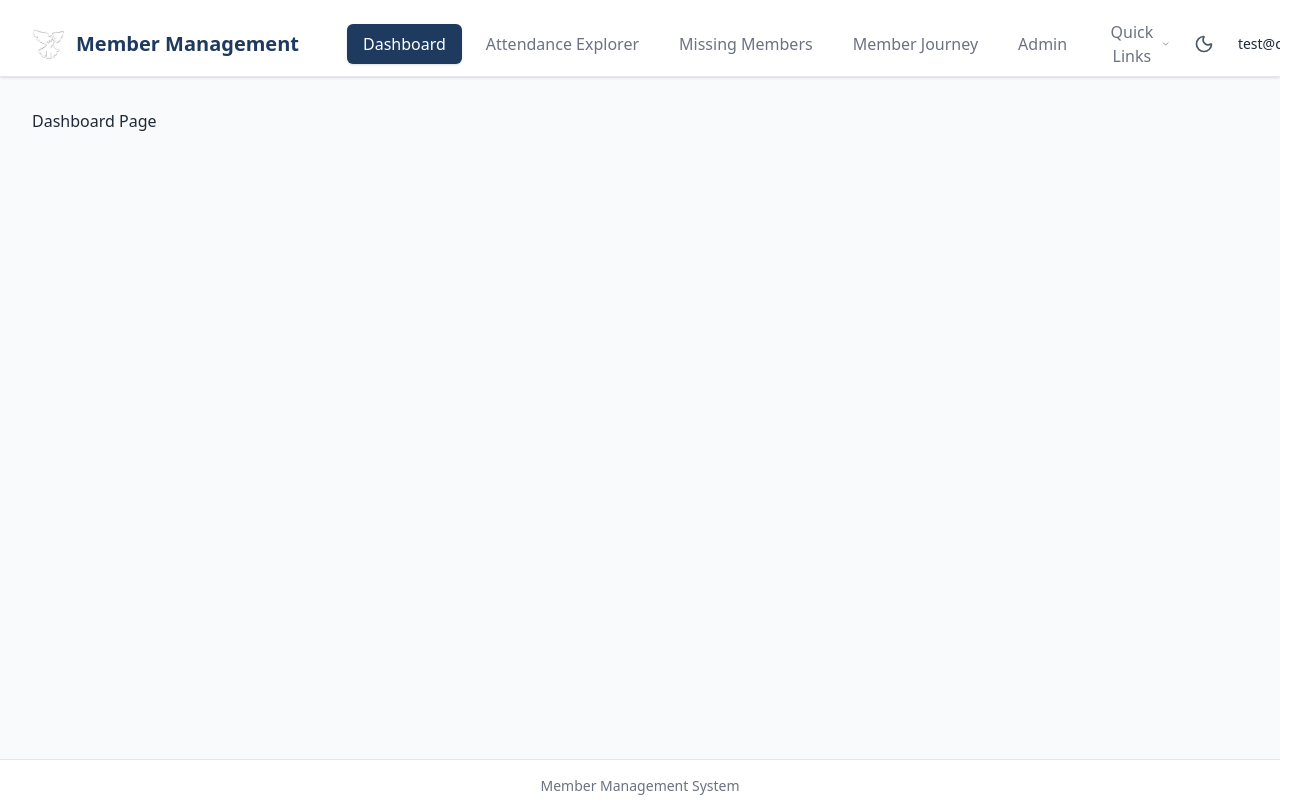
Test case: MainLayout Navigation - User Interaction › should navigate to attendance page when clicking Attendance tab
Click the link "Attendance Explorer" at (562, 44), box [486,33,639,55]
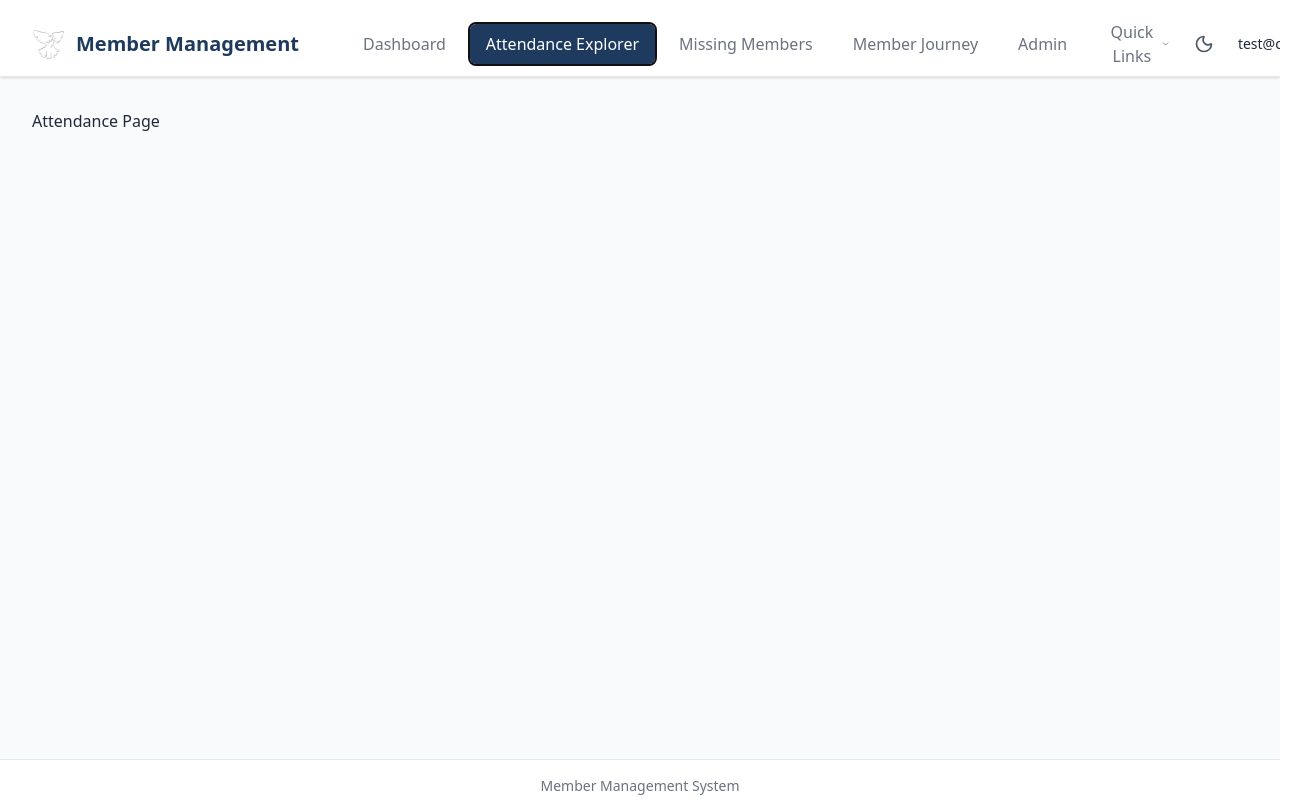
Expected: the text "Attendance Page" is shown, [32,110,160,132]
